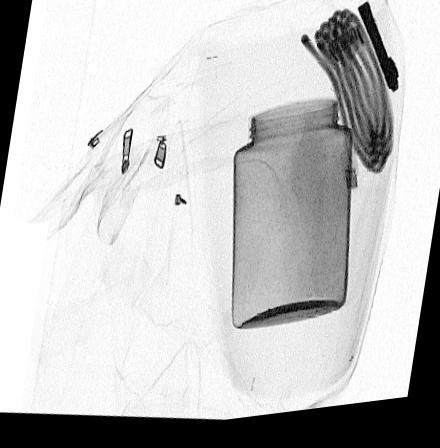Gun: (355, 11, 398, 101)
